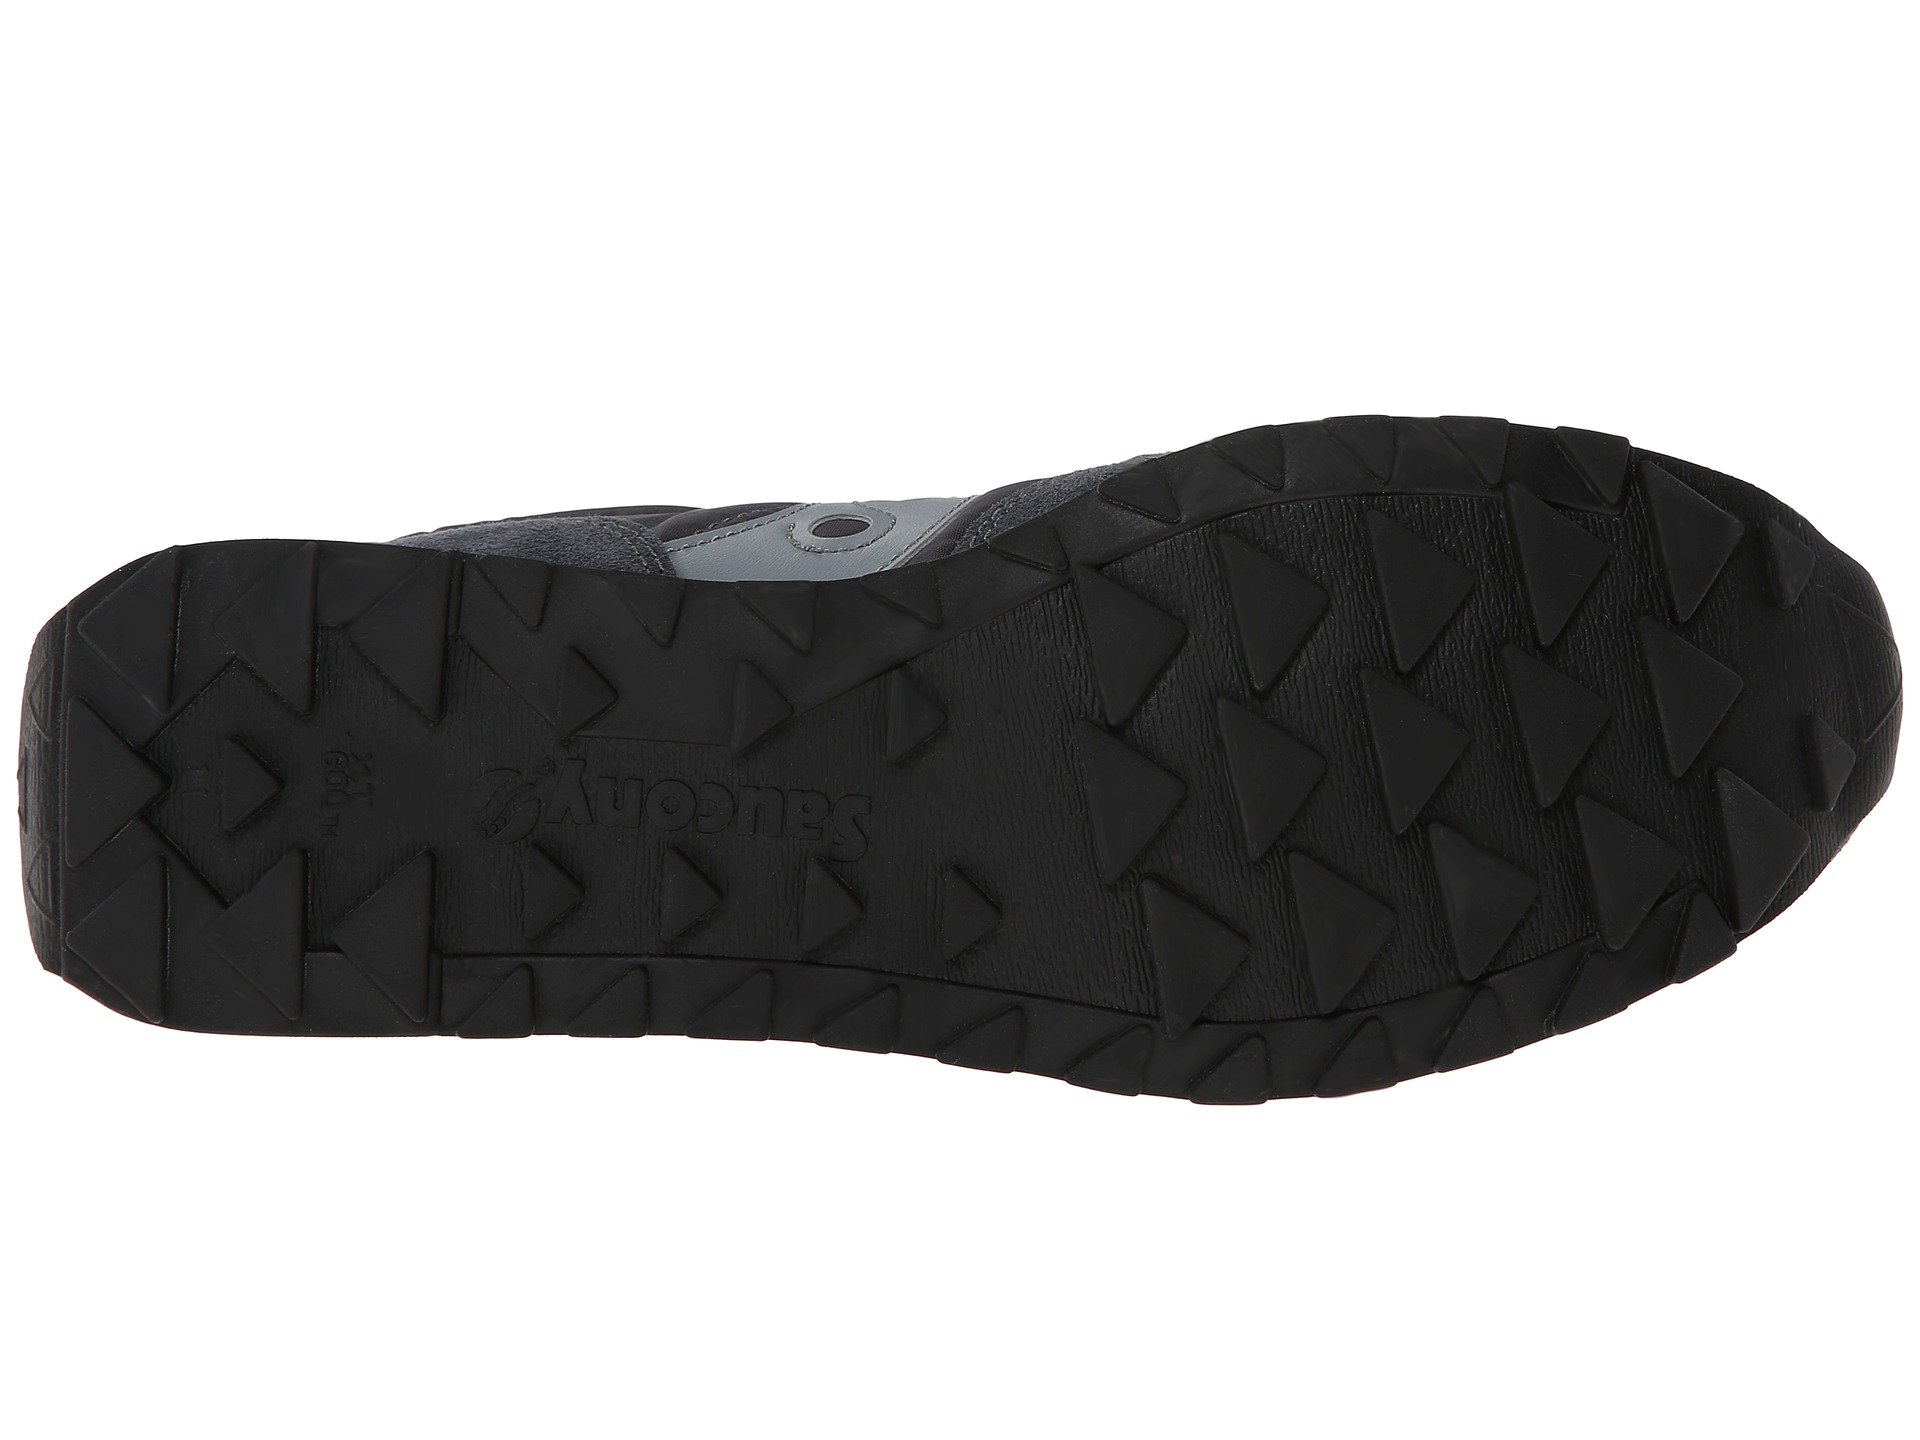text: (662, 358, 741, 461), (777, 368, 859, 461)
triangle: (1036, 163, 1353, 422), (1370, 85, 1633, 371), (1098, 455, 1342, 690), (51, 219, 298, 445), (334, 159, 578, 371), (1362, 377, 1592, 594), (360, 407, 564, 610), (1646, 234, 1847, 439), (880, 455, 1036, 652)
